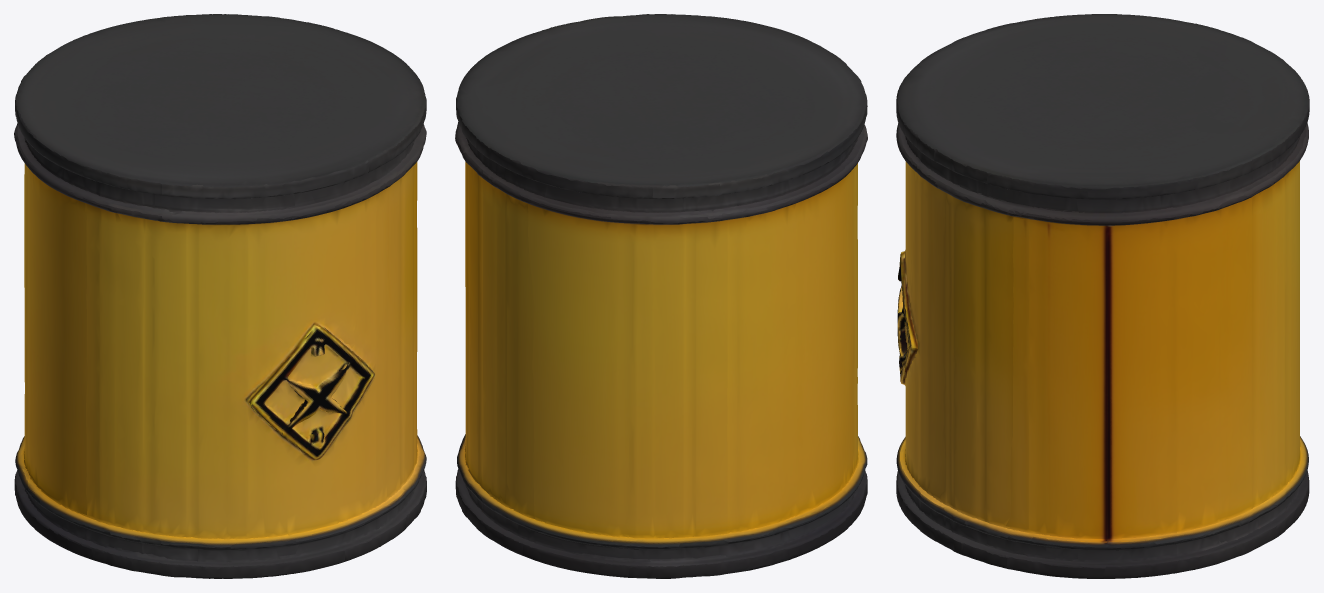
Rendered from bidon_quimico.glb.
3 views of the same model, side by side, from view 1: azimuth 30°, elevation 25°; view 2: azimuth 150°, elevation 25°; view 3: azimuth 270°, elevation 25° (orthographic).
Parts seen in each view (by area): view 1: tmpz_w4ilzv.ply; view 2: tmpz_w4ilzv.ply; view 3: tmpz_w4ilzv.ply.
Part boxes in pixels (box(x1,y1,x2,y2)): tmpz_w4ilzv.ply: box(14, 14, 426, 578); tmpz_w4ilzv.ply: box(455, 14, 867, 578); tmpz_w4ilzv.ply: box(896, 14, 1309, 578).
Bounding box in the file's own units: 0.9441 × 0.9943 × 0.9456.
1 material, 1 textured.
